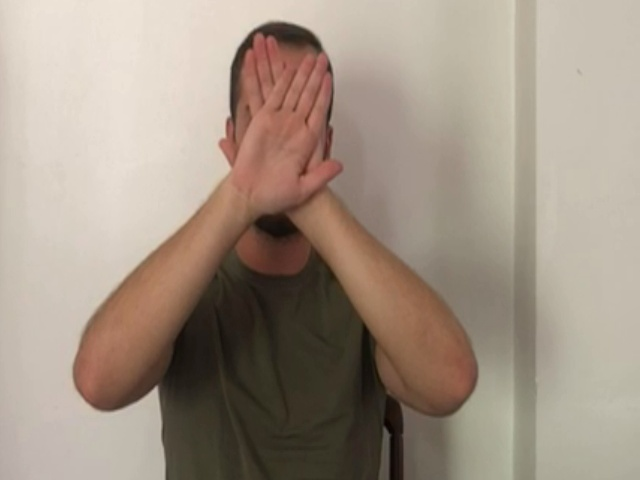Stemneto: (217, 30, 347, 224)
